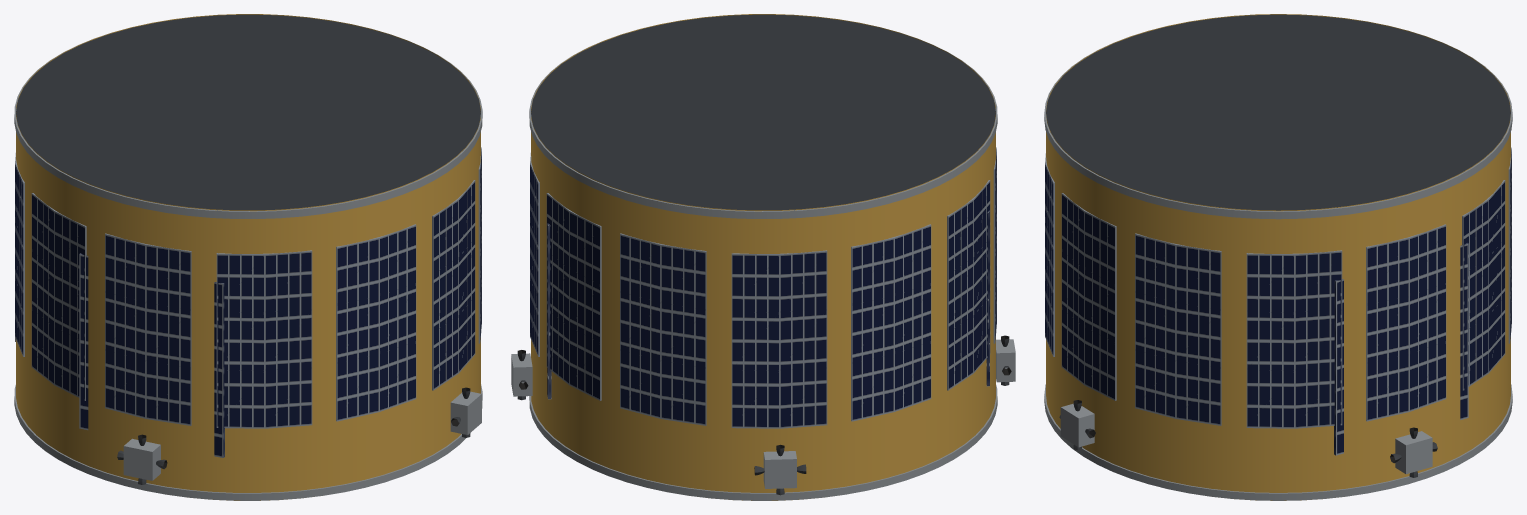
Rendered from htv_propulsion.glb.
3 renders of one model, left to right at view 1: azimuth 30°, elevation 25°; view 2: azimuth 150°, elevation 25°; view 3: azimuth 270°, elevation 25°, orthographic.
Parts seen in each view (by area): view 1: body, slot_power; view 2: body, slot_power; view 3: body, slot_power.
Boxes of the visible parts, x1,y1,x2,y2 form: body: (14, 14, 482, 500); slot_power: (79, 253, 224, 457); body: (511, 14, 1015, 500); slot_power: (547, 210, 989, 399); body: (1044, 14, 1512, 500); slot_power: (1334, 243, 1468, 455).
Bounding box in the file's own units: 2.92 × 2.01 × 2.92.
10 materials, 1 textured.
